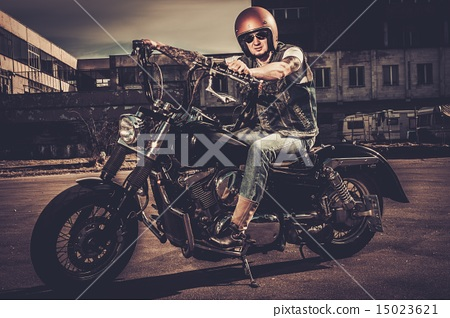helmet: (232, 7, 278, 55)
